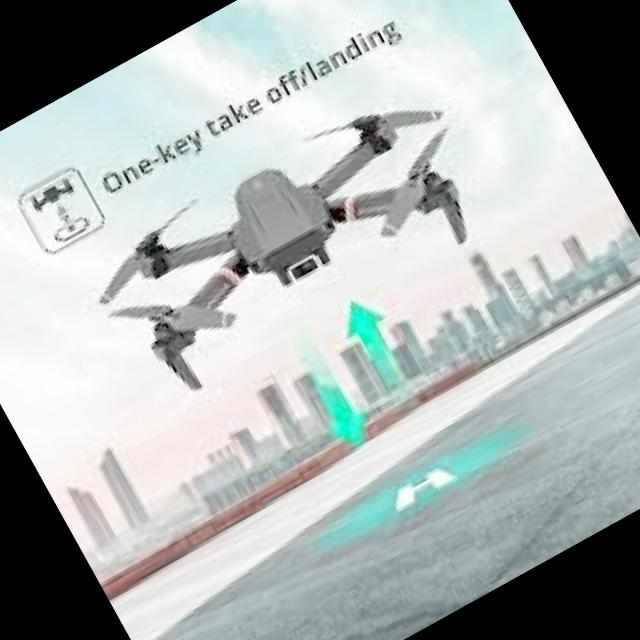drone: (58, 55, 507, 432)
